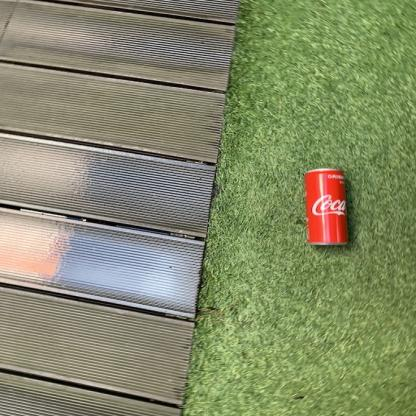Aerosols: (279, 160, 373, 257)
